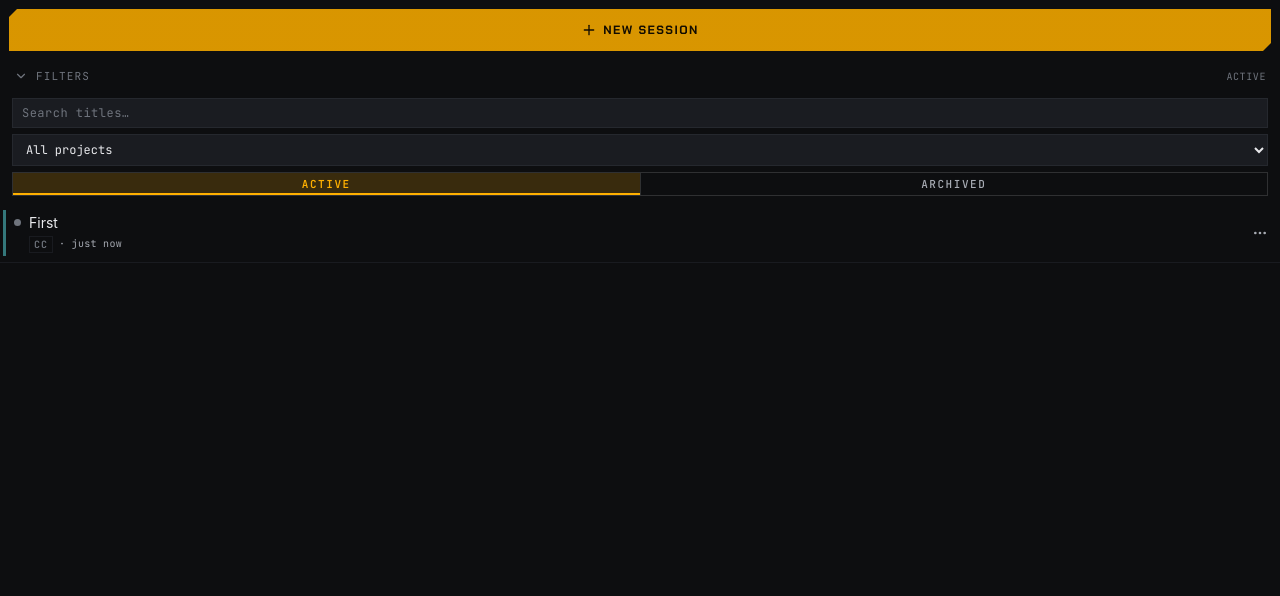
Test: favoriting from the row menu toggles sticky and shows the ★ prefix (#508)
This screenshot has width=1280, height=596.
Expected: the text "First" is shown, [29, 214, 58, 231]
Expected: the button "Favorite" is not shown
Click the button named "Session actions".
click(1260, 233)  # box [1246, 219, 1274, 247]
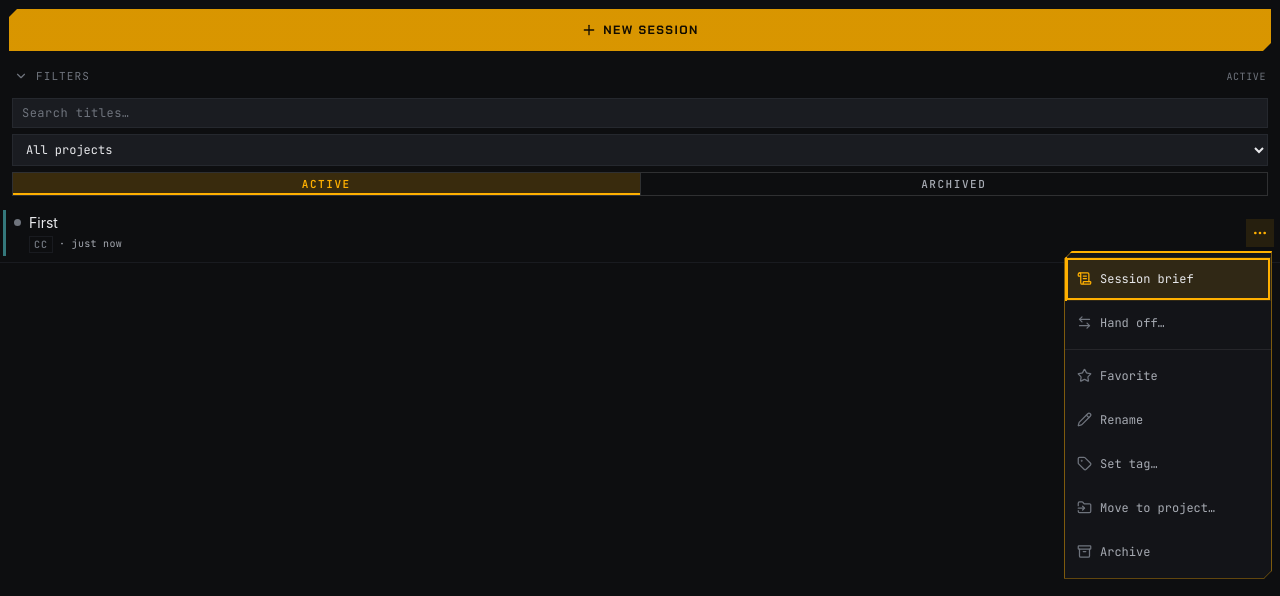
Click the menu item with aria-label "Favorite session".
click(1168, 376)  # box [1065, 354, 1271, 398]
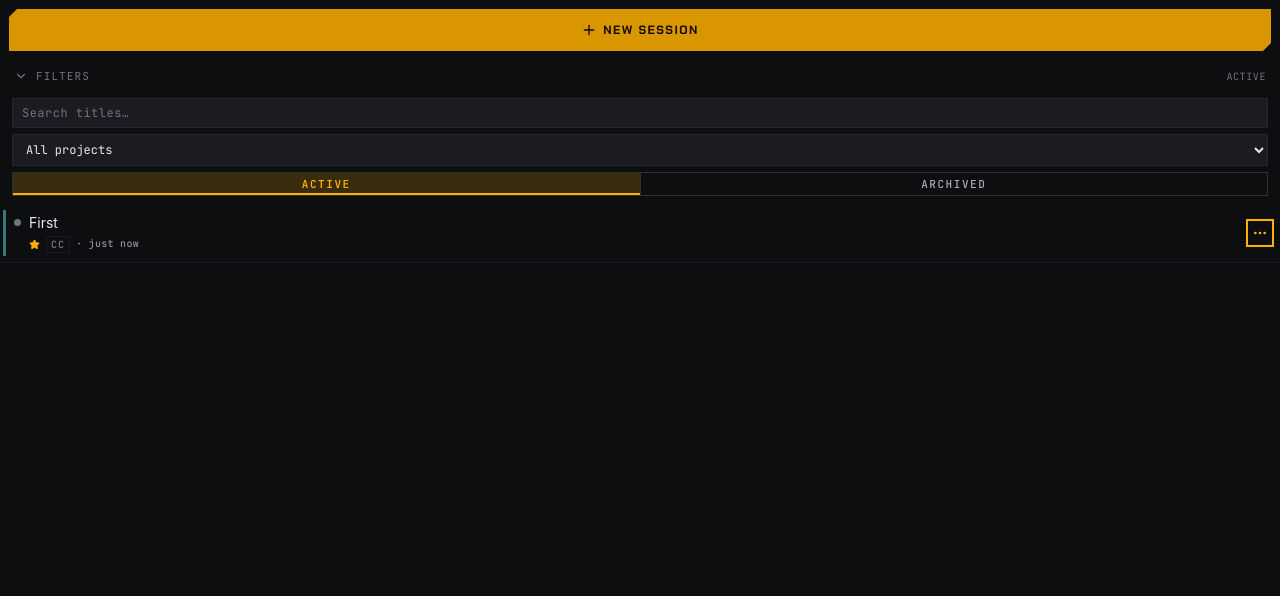
Expected: the element titled "Favorited" is shown, [29, 239, 40, 250]
Click the button named "Session actions".
click(1260, 233)  # box [1246, 219, 1274, 247]
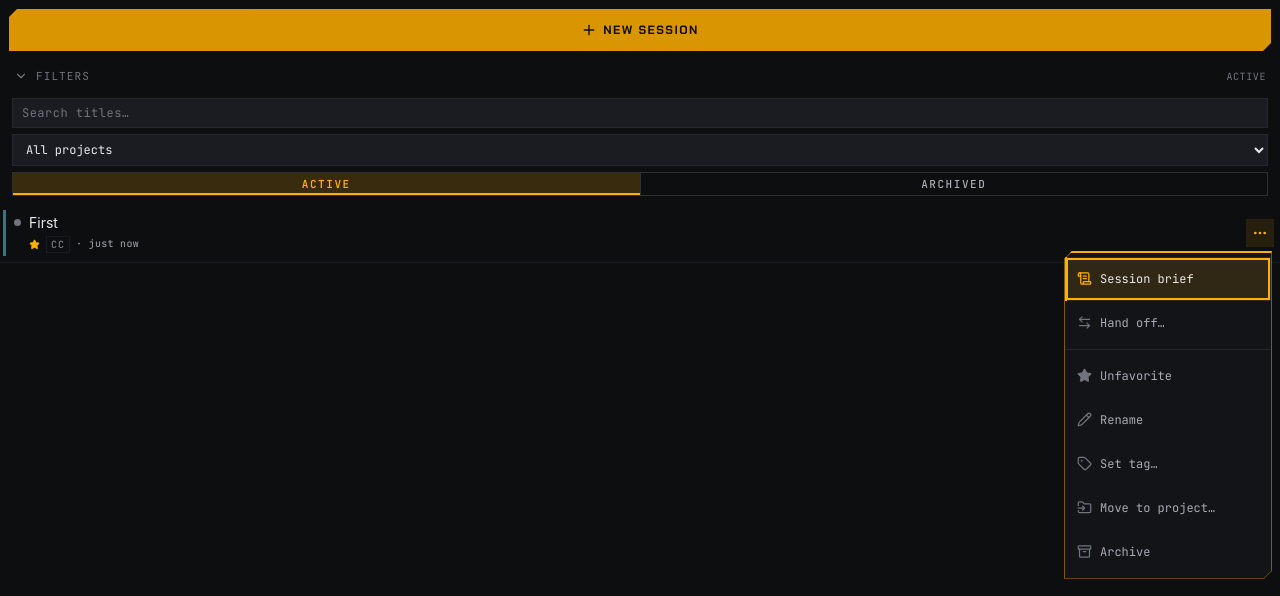
Expected: the menu item with aria-label "Unfavorite session" is shown, [1065, 354, 1271, 398]
